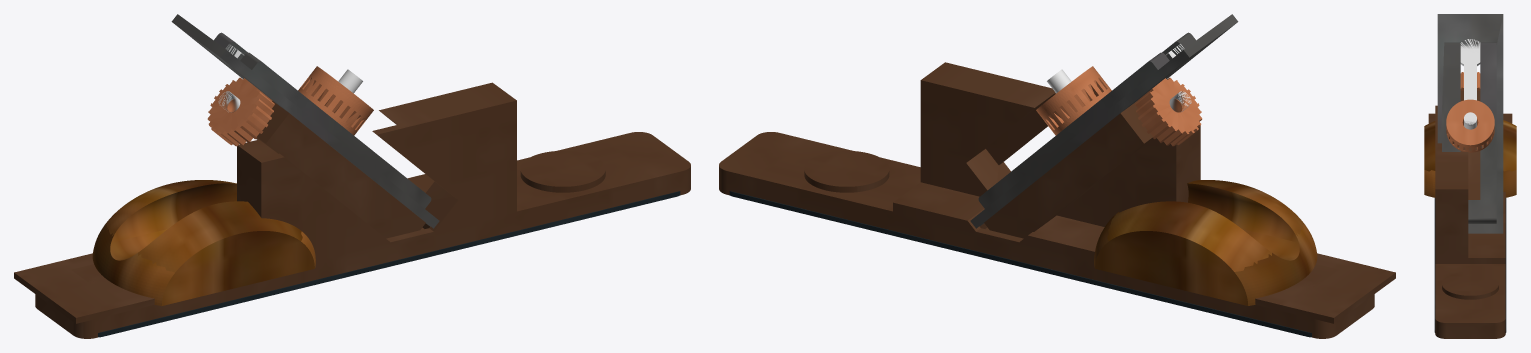
Rendered from Handtools_Hand_plane__0002.glb.
3 renders of one model, left to right at view 1: azimuth 30°, elevation 25°; view 2: azimuth 150°, elevation 25°; view 3: azimuth 270°, elevation 25°, orthographic. The views are drawn at different scales.
Visible parts, largest first — view 1: plane_body::casting, palm_rest::hump, cutting_iron::iron, plane_body::frog, plane_body::palm_heel_boss, plane_body::sole_edge, depth_wheel::wheel, cap_nut::nut; view 2: plane_body::casting, palm_rest::hump, plane_body::frog, cutting_iron::iron, plane_body::palm_heel_boss, plane_body::sole_edge, depth_wheel::wheel, cap_nut::nut; view 3: plane_body::casting, cutting_iron::iron, cap_nut::nut, palm_rest::hump, lateral_lever::lever, plane_body::frog, plane_body::sole_edge, plane_body::cap_post, plane_body::palm_heel_boss, depth_wheel::wheel.
Boxes of the visible parts, box(x1,y1,x2,y2) form: plane_body::casting: box(35, 82, 690, 338); palm_rest::hump: box(92, 180, 315, 305); cutting_iron::iron: box(171, 14, 439, 228); plane_body::frog: box(256, 101, 425, 238); plane_body::palm_heel_boss: box(14, 253, 154, 323); plane_body::sole_edge: box(98, 191, 680, 337); depth_wheel::wheel: box(207, 77, 274, 146); cap_nut::nut: box(298, 66, 373, 135); plane_body::casting: box(719, 62, 1374, 338); palm_rest::hump: box(1094, 180, 1317, 305); plane_body::frog: box(984, 101, 1152, 238); cutting_iron::iron: box(970, 14, 1238, 228); plane_body::palm_heel_boss: box(1255, 253, 1395, 323); plane_body::sole_edge: box(729, 191, 1311, 337); depth_wheel::wheel: box(1135, 77, 1202, 146); cap_nut::nut: box(1036, 66, 1111, 135); plane_body::casting: box(1435, 105, 1505, 338); cutting_iron::iron: box(1437, 14, 1503, 233); cap_nut::nut: box(1446, 99, 1494, 152); palm_rest::hump: box(1424, 120, 1516, 197); lateral_lever::lever: box(1460, 39, 1480, 100); plane_body::frog: box(1460, 90, 1480, 199); plane_body::sole_edge: box(1434, 198, 1506, 332); plane_body::cap_post: box(1464, 112, 1476, 129); plane_body::palm_heel_boss: box(1428, 113, 1512, 123); depth_wheel::wheel: box(1460, 72, 1480, 90).
Bounding box in the file's own units: 0.2204 × 0.0857 × 0.0419.
6 materials, 6 textured.
